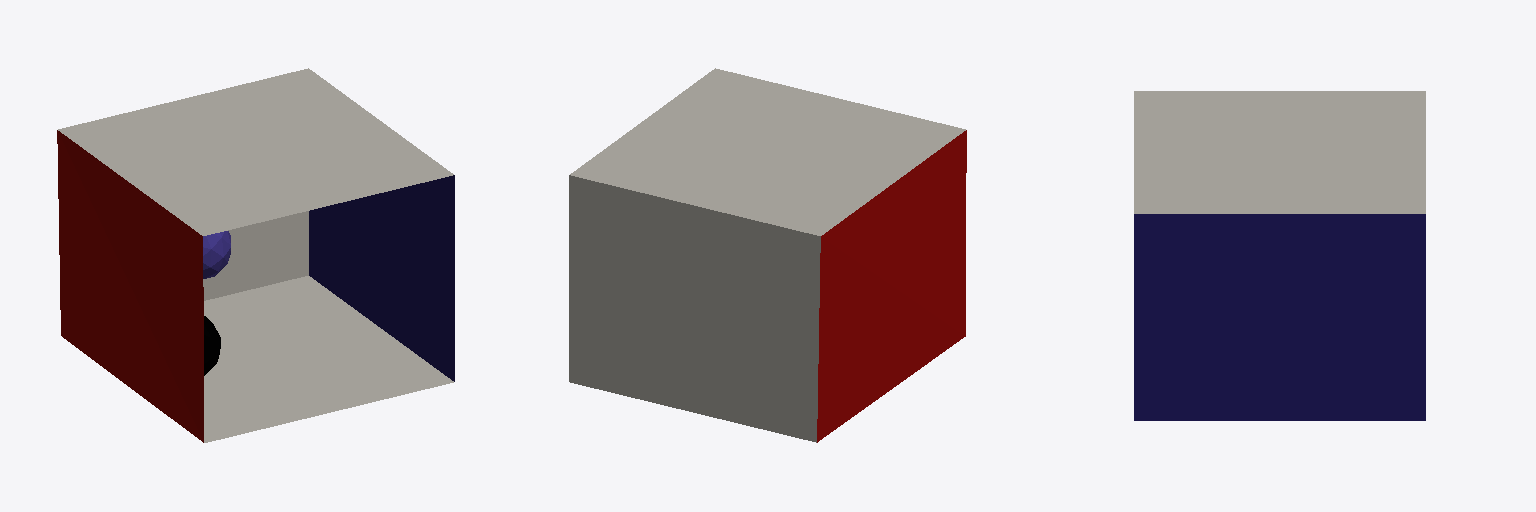
Rendered from CornellBox-Sphere-7.obj.
The picture shows the model from 3 angles: view 1: azimuth 30°, elevation 25°; view 2: azimuth 150°, elevation 25°; view 3: azimuth 270°, elevation 25°; orthographic projection.
Parts seen in each view (by area): view 1: ceiling, leftWall, floor, rightWall, backWall, leftSphere, rightSphere; view 2: backWall, ceiling, leftWall; view 3: rightWall, ceiling.
Part boxes in pixels (x1,y1,x2,y2): ceiling: (58,68,453,235); leftWall: (57,130,203,442); floor: (204,276,453,442); rightWall: (309,175,454,381); backWall: (203,211,308,300); leftSphere: (203,231,230,278); rightSphere: (204,316,220,375); backWall: (569,175,820,442); ceiling: (570,68,965,235); leftWall: (817,130,966,442); rightWall: (1134,214,1425,420); ceiling: (1134,91,1425,213).
Size of the model in its own units: 2.02 by 1.59 by 2.03.